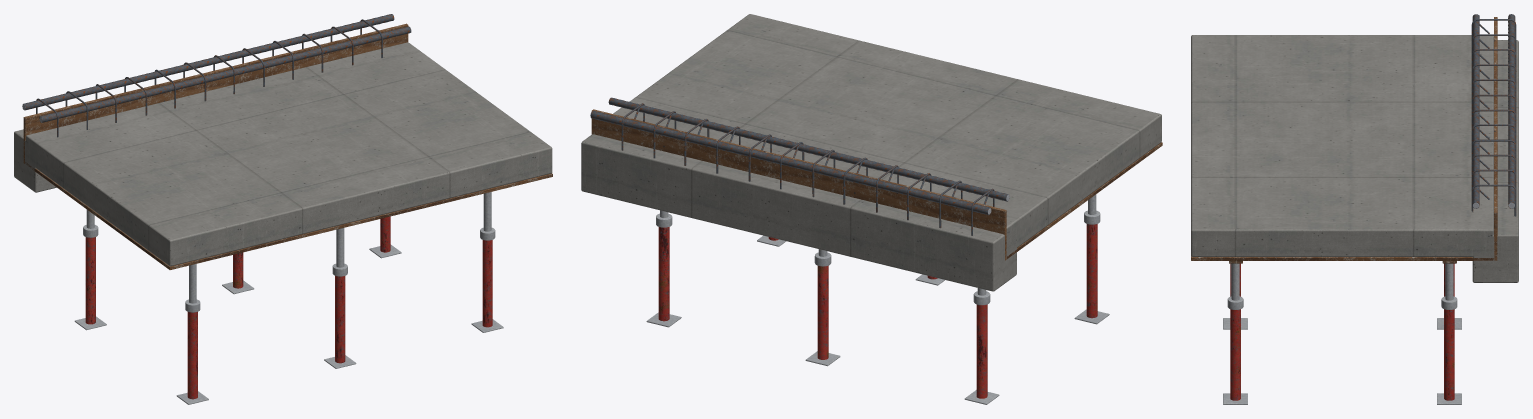
File: chi-tiet-dam-san.glb
3 renders of one model, left to right at view 1: azimuth 30°, elevation 25°; view 2: azimuth 150°, elevation 25°; view 3: azimuth 270°, elevation 25°, orthographic. The views are drawn at different scales.
Visible parts, largest first — view 1: step4_56, step0_7, step1_9, step1_11, step0_6, step0_4, step0_5, step0_3, step0_0, step4_57, step0_1, step0_2; view 2: step4_56, step4_57, step0_7, step1_11, step1_9, step0_3, step0_1, step0_0, step0_2, step0_6; view 3: step4_56, step4_57, step0_2, step0_5, step1_11, step1_9, step0_6, step0_7, step0_1, step0_4.
Boxes of the visible parts, bbox=[...] form: step4_56: bbox=[26, 42, 552, 266]; step0_7: bbox=[23, 23, 408, 163]; step1_9: bbox=[39, 26, 411, 122]; step1_11: bbox=[22, 14, 394, 110]; step0_6: bbox=[25, 162, 552, 269]; step0_4: bbox=[324, 228, 356, 368]; step0_5: bbox=[471, 192, 503, 332]; step0_3: bbox=[176, 264, 208, 404]; step0_0: bbox=[74, 209, 106, 330]; step4_57: bbox=[14, 129, 56, 192]; step0_1: bbox=[222, 252, 254, 294]; step0_2: bbox=[369, 216, 401, 258]; step4_56: bbox=[613, 14, 1161, 253]; step4_57: bbox=[581, 134, 1016, 291]; step0_7: bbox=[591, 109, 1006, 260]; step1_11: bbox=[590, 110, 991, 215]; step1_9: bbox=[608, 97, 1009, 201]; step0_3: bbox=[1074, 194, 1109, 324]; step0_1: bbox=[805, 249, 840, 366]; step0_0: bbox=[964, 288, 999, 404]; step0_2: bbox=[646, 210, 681, 327]; step0_6: bbox=[1007, 142, 1162, 258]; step4_56: bbox=[1191, 35, 1493, 256]; step4_57: bbox=[1472, 40, 1518, 282]; step0_2: bbox=[1437, 261, 1461, 404]; step0_5: bbox=[1223, 261, 1247, 404]; step1_11: bbox=[1508, 14, 1515, 208]; step1_9: bbox=[1472, 14, 1479, 208]; step0_6: bbox=[1191, 256, 1493, 260]; step0_7: bbox=[1494, 17, 1497, 260]; step0_1: bbox=[1437, 263, 1461, 329]; step0_4: bbox=[1223, 263, 1247, 329].
Size of the model in its own units: 2.6 by 1.35 by 1.84.
Materials: 9 (9 with a texture image).
